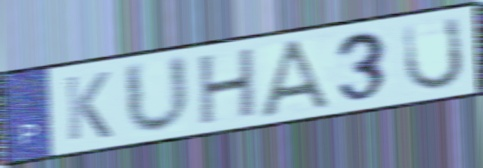3: (333, 27, 397, 106)
A: (256, 35, 339, 119)
H: (197, 44, 258, 129)
K: (61, 69, 115, 144)
U: (120, 51, 195, 137), (400, 14, 467, 94)
